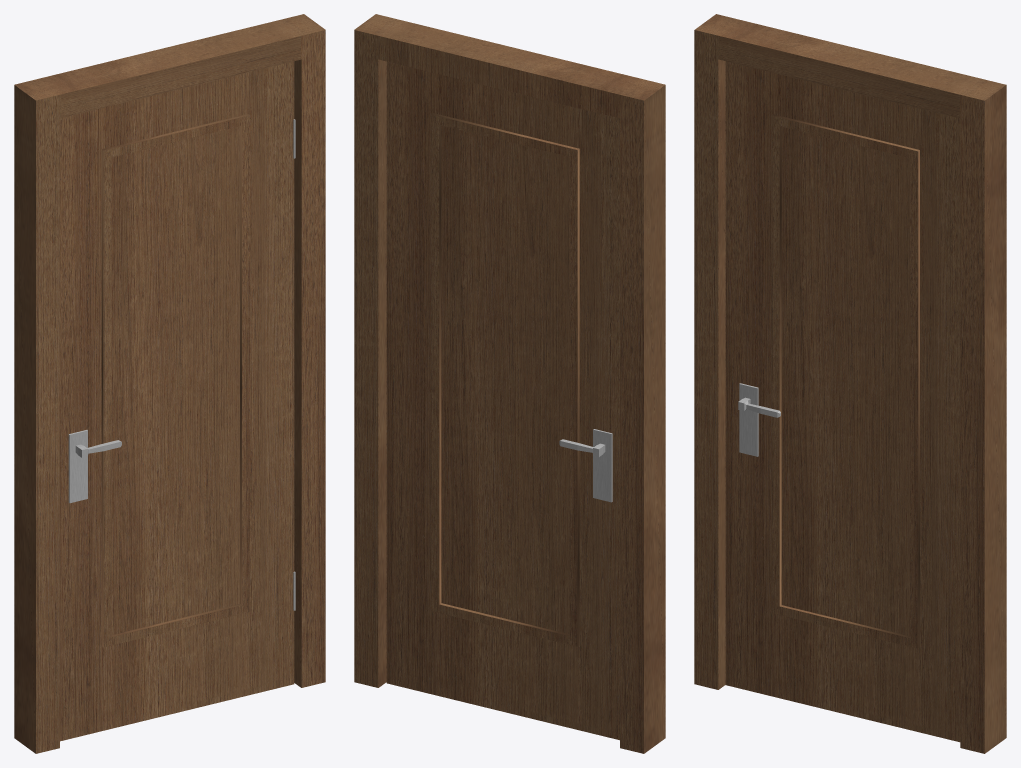
The model's file is Door.FBX.
3 renders of one model, left to right at view 1: azimuth 30°, elevation 25°; view 2: azimuth 150°, elevation 25°; view 3: azimuth 330°, elevation 25°, orthographic.
Visible parts, largest first — view 1: Door, door frame; view 2: Door, door frame; view 3: Door, door frame.
Part boxes in pixels (x1,y1,x2,y2): Door: (60, 61, 295, 741); door frame: (14, 14, 325, 753); Door: (386, 61, 619, 740); door frame: (354, 14, 665, 753); Door: (725, 61, 960, 742); door frame: (694, 14, 1006, 753).
Bounding box in the file's own units: 96.56 × 208 × 13.27.
Materials: 2 (2 with a texture image).
